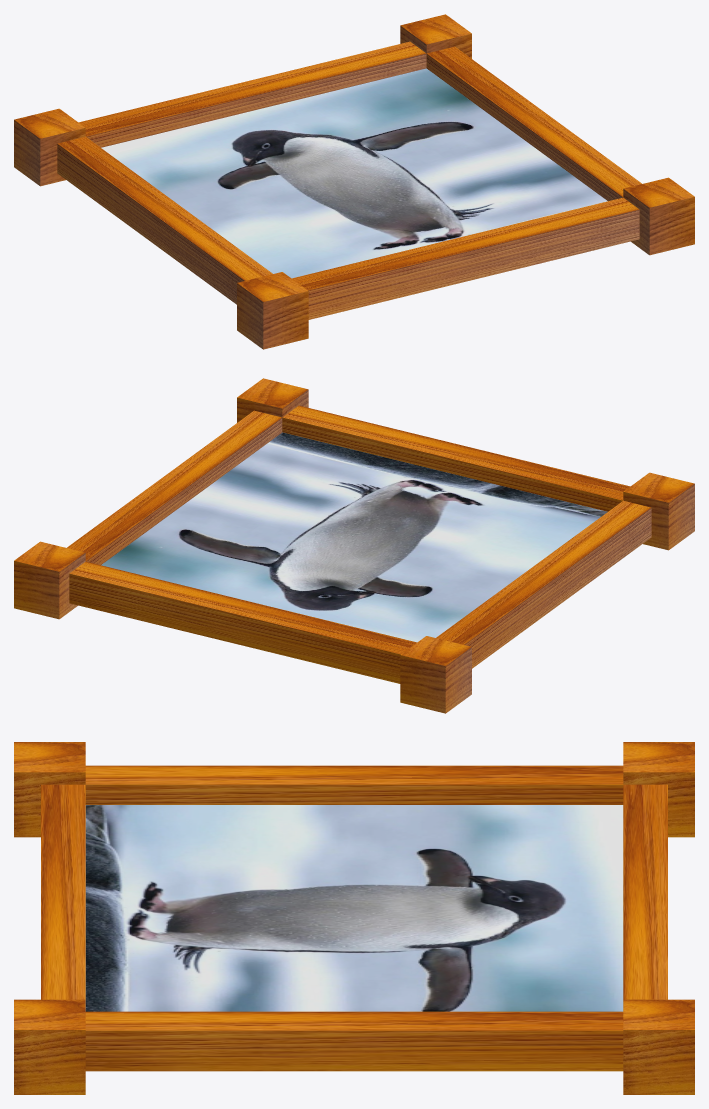
Rendered from Pinguino.fbx.
The picture shows the model from 3 angles, top to bottom: view 1: azimuth 30°, elevation 25°; view 2: azimuth 150°, elevation 25°; view 3: azimuth 270°, elevation 25°; orthographic projection. The views are drawn at different scales.
Parts seen in each view (by area): view 1: Pinguino; view 2: Pinguino; view 3: Pinguino.
Boxes of the visible parts, <box> form: Pinguino: <box>14,14,694,349</box>; Pinguino: <box>14,378,694,713</box>; Pinguino: <box>14,742,694,1094</box>.
Size of the model in its own units: 76 by 8 by 76.
